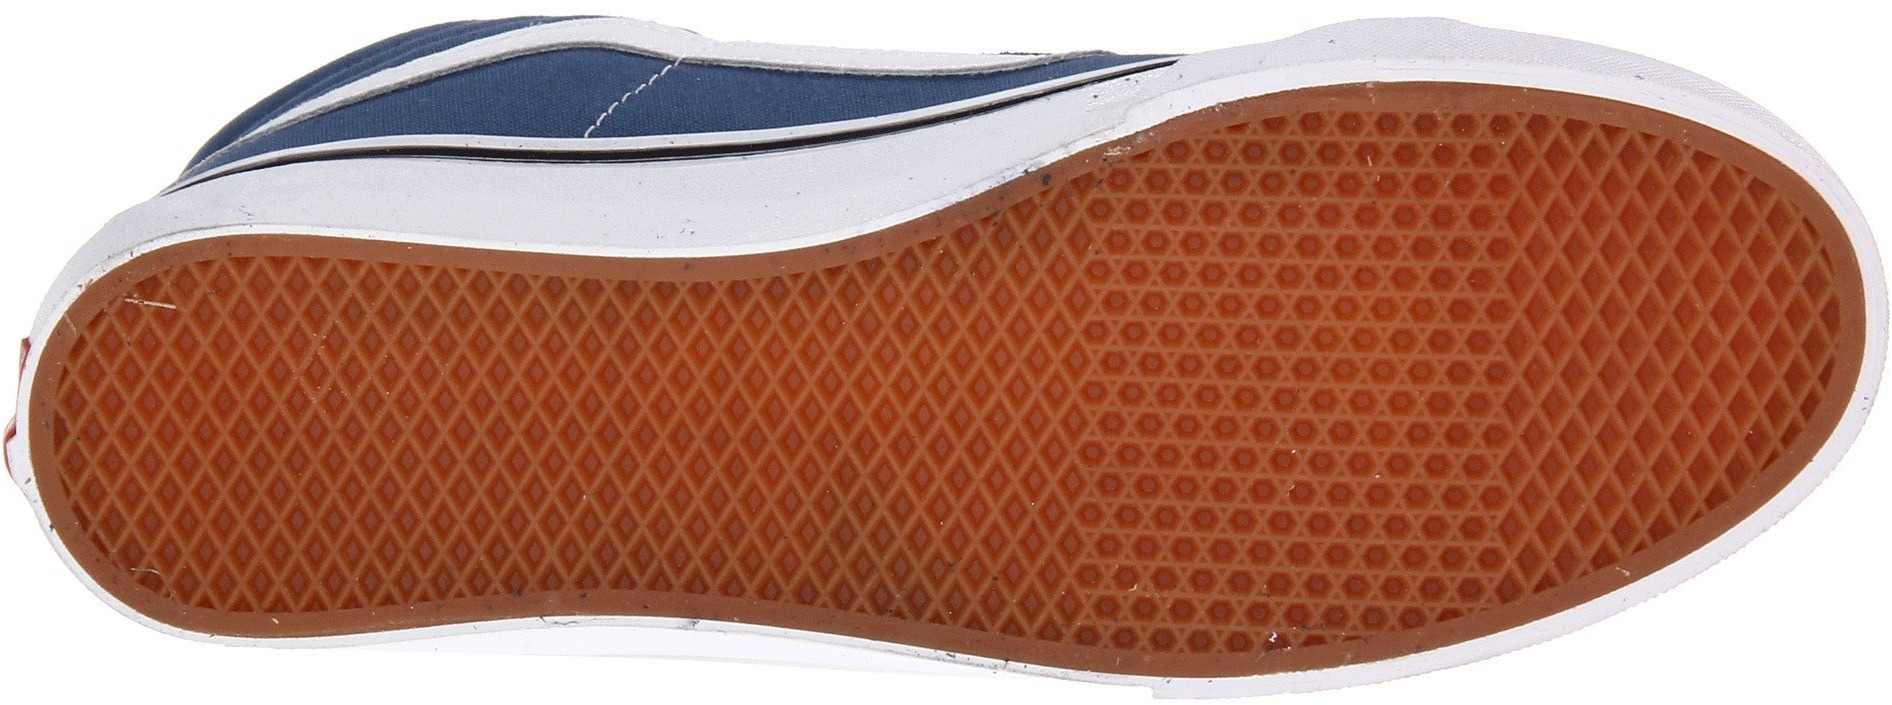exclude: (334, 627, 1068, 703)
polygon: (1057, 109, 1530, 653), (1069, 190, 1509, 593)
quad: (1507, 113, 1843, 607), (164, 282, 477, 573), (527, 297, 822, 582), (1532, 212, 1789, 464), (852, 328, 1044, 515), (872, 518, 998, 618), (1516, 462, 1618, 559), (71, 356, 170, 455)
triangle: (1065, 109, 1523, 653), (1074, 191, 1512, 595)
